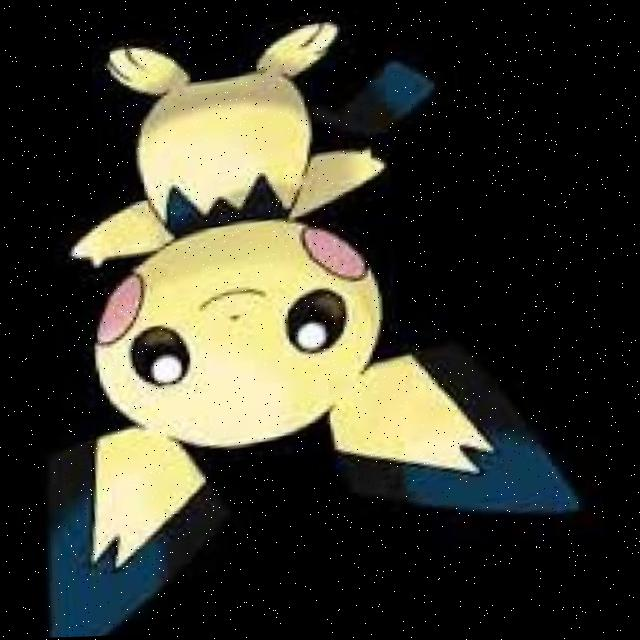pichu: (0, 0, 633, 640)
